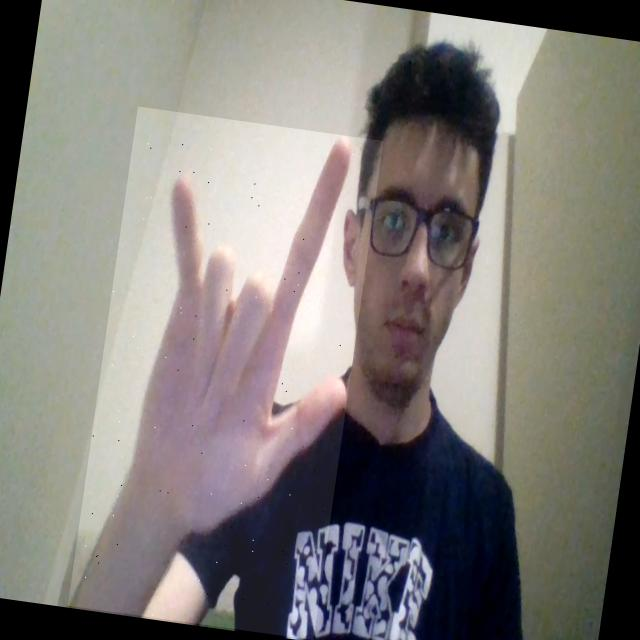iloveyou: (68, 107, 384, 640)
